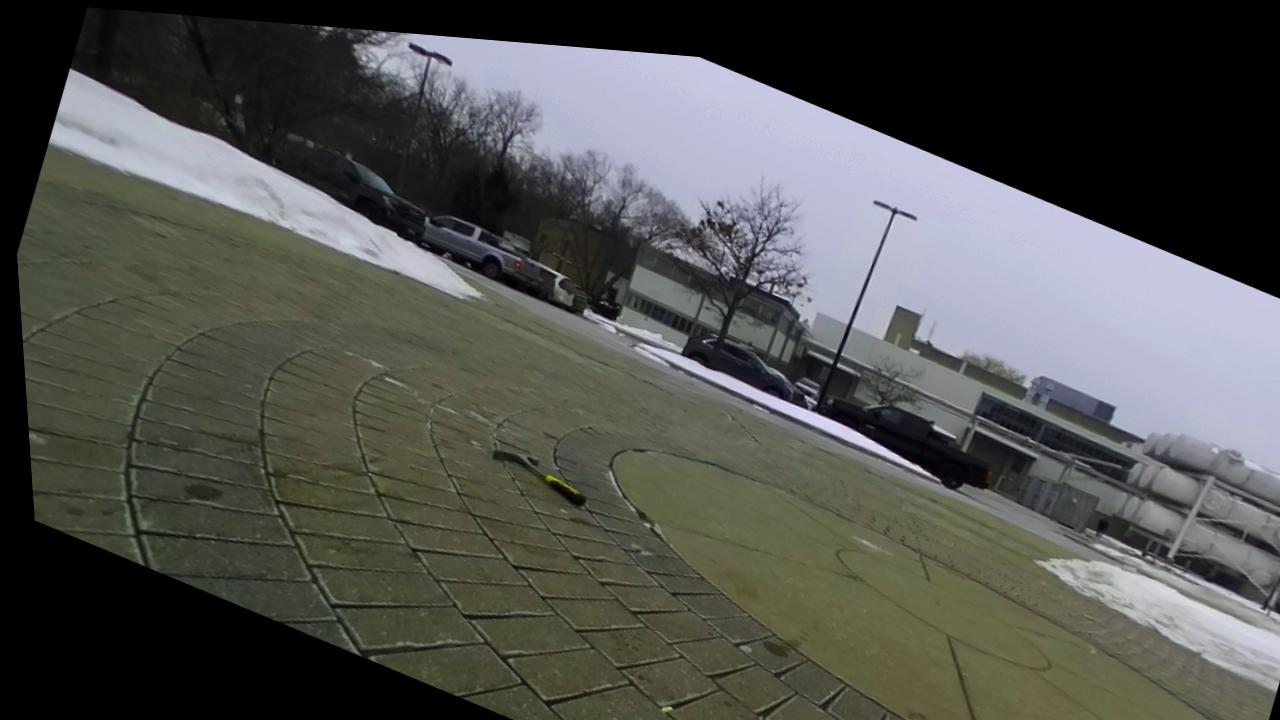pick: (493, 449, 586, 505)
